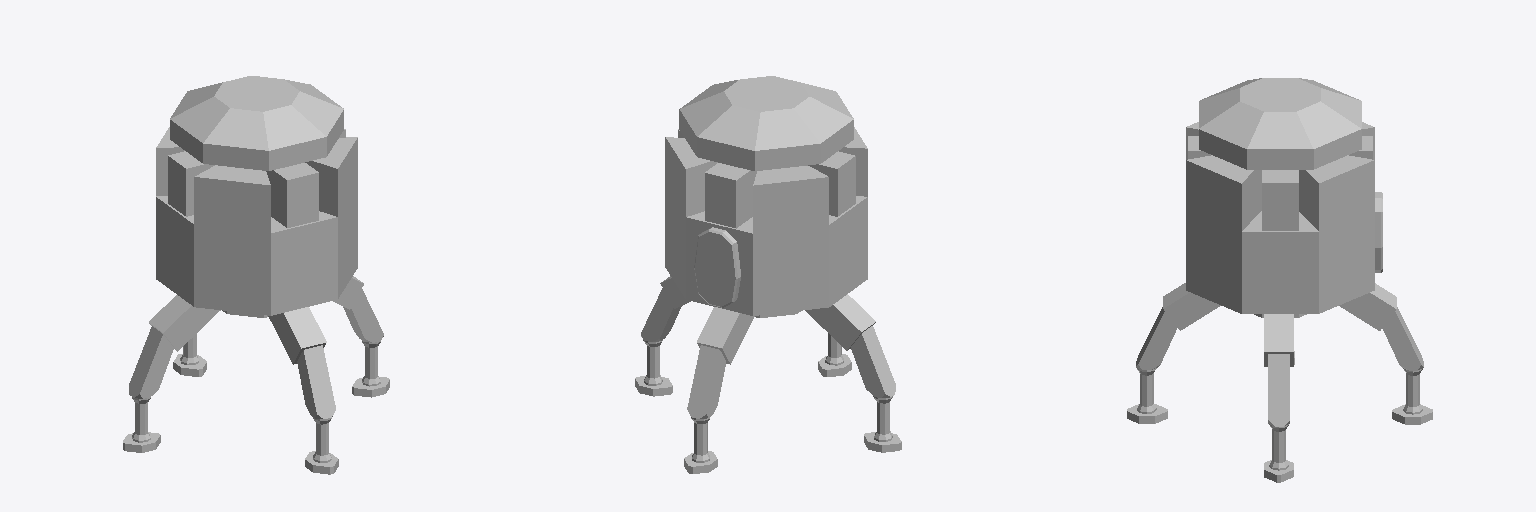
The model's file is neptune_lander.obj.
3 renders of one model, left to right at view 1: azimuth 30°, elevation 25°; view 2: azimuth 150°, elevation 25°; view 3: azimuth 270°, elevation 25°, orthographic.
Parts seen in each view (by area): view 1: Body, OneLeg, FourLeg, ThreeLeg, TwoLeg; view 2: Body, OneLeg, TwoLeg, Door, ThreeLeg, FourLeg; view 3: Body, ThreeLeg, TwoLeg, FourLeg, Door.
Boxes of the visible parts, <box> form: Body: <box>156,76,357,317</box>; OneLeg: <box>123,295,220,452</box>; FourLeg: <box>268,307,338,474</box>; ThreeLeg: <box>333,276,389,397</box>; TwoLeg: <box>173,334,206,376</box>; Body: <box>665,76,867,317</box>; OneLeg: <box>805,294,901,452</box>; TwoLeg: <box>684,307,754,473</box>; Door: <box>694,227,740,307</box>; ThreeLeg: <box>635,276,690,396</box>; FourLeg: <box>818,333,851,376</box>; Body: <box>1186,78,1374,317</box>; ThreeLeg: <box>1264,314,1293,482</box>; TwoLeg: <box>1339,283,1432,424</box>; FourLeg: <box>1127,283,1220,423</box>; Door: <box>1375,192,1382,272</box>.
Bounding box in the file's own units: 32.97 × 38.51 × 33.06.